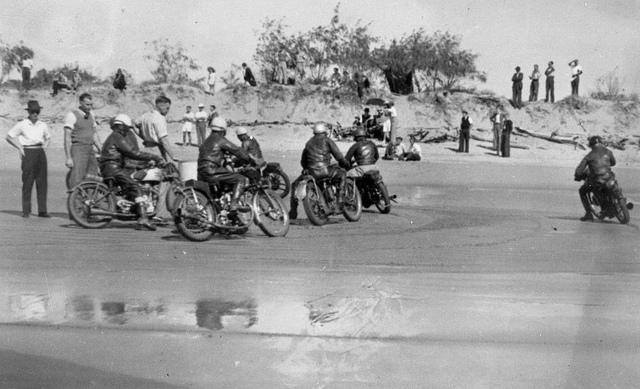motorcycle: (174, 163, 290, 240), (68, 163, 184, 228), (296, 156, 366, 226), (584, 171, 632, 222), (350, 168, 391, 214), (264, 164, 288, 196), (224, 153, 248, 173)
